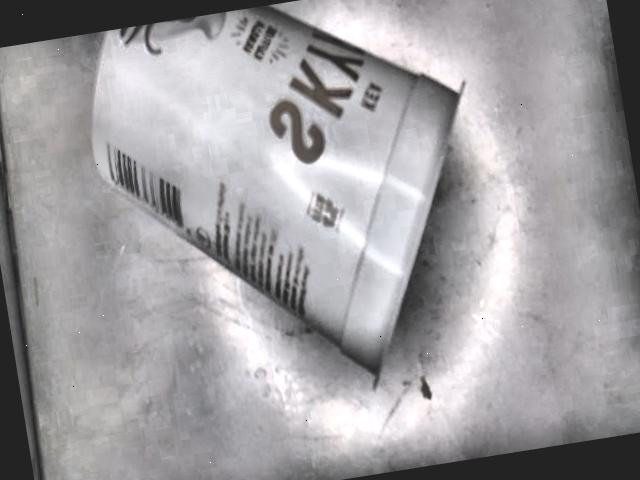Plastic: (89, 4, 467, 392)
